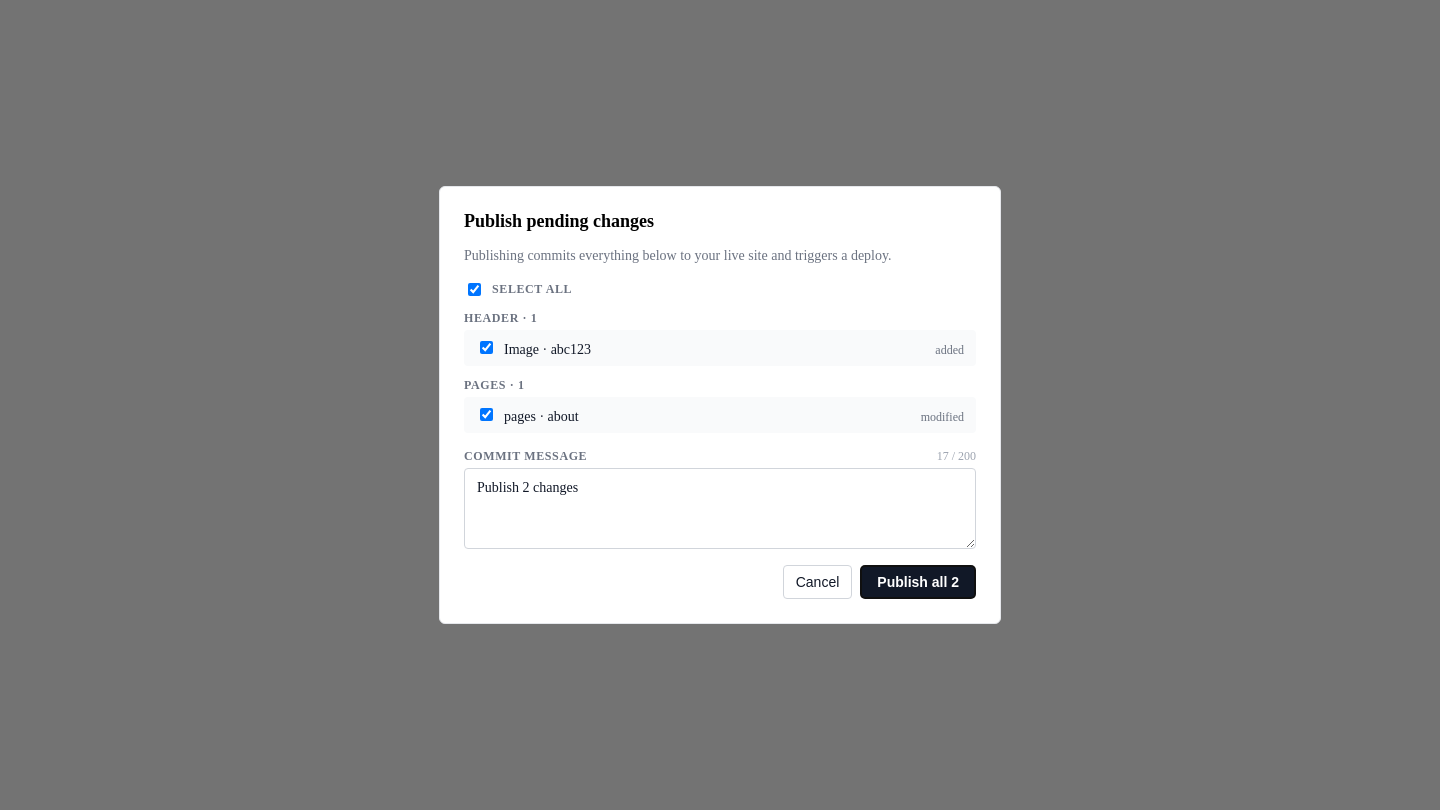
Test case: PublishConfirmModal › shows Reset once the subject drifts from the default, and re-seeds when clicked
This screenshot has width=1440, height=810.
Replace the text in the text box labelled "Commit message" with "custom message" at (720, 508), box left=464, top=468, right=976, bottom=549
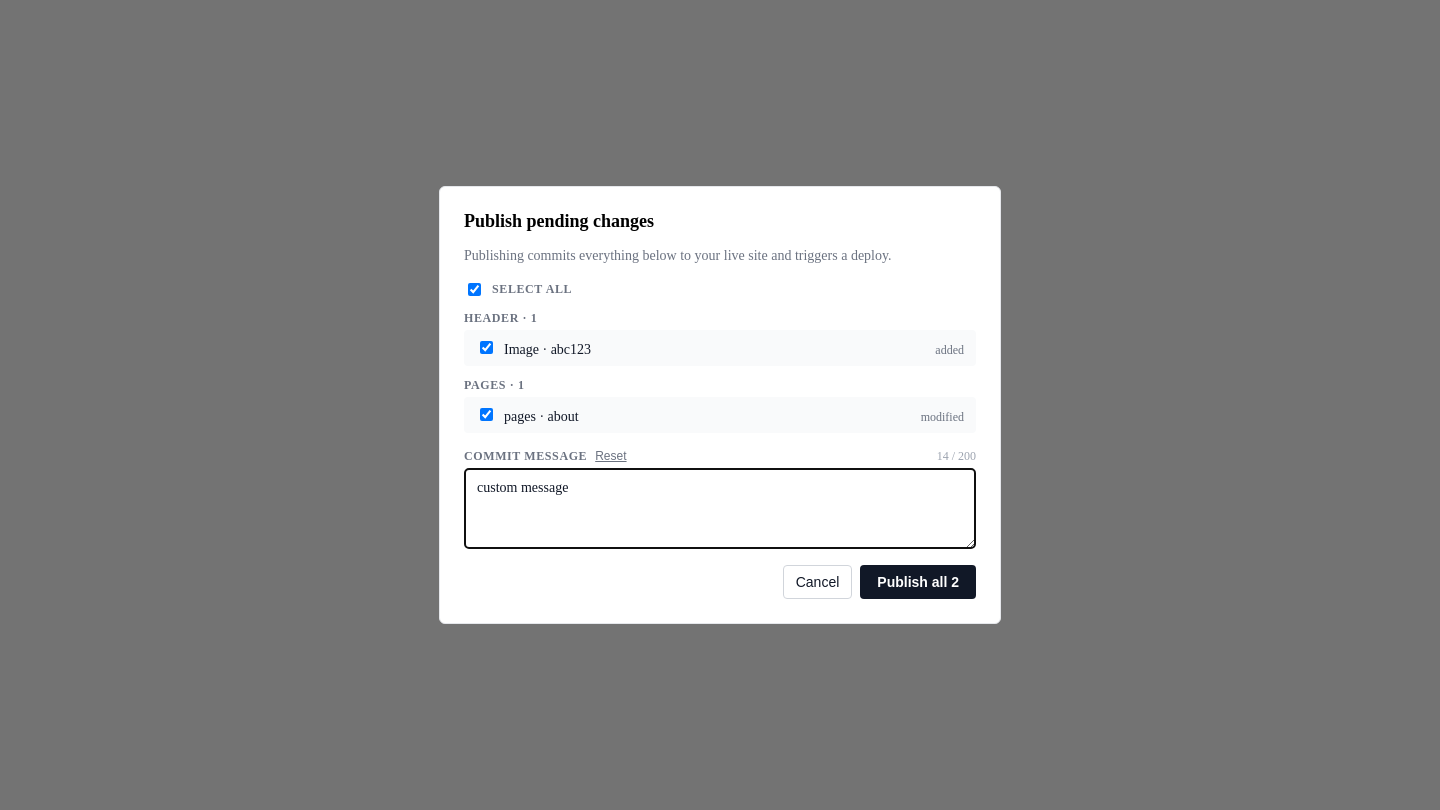
Expected: the button "Reset" is shown
Click the button "Reset" at (611, 456), box left=595, top=449, right=627, bottom=463
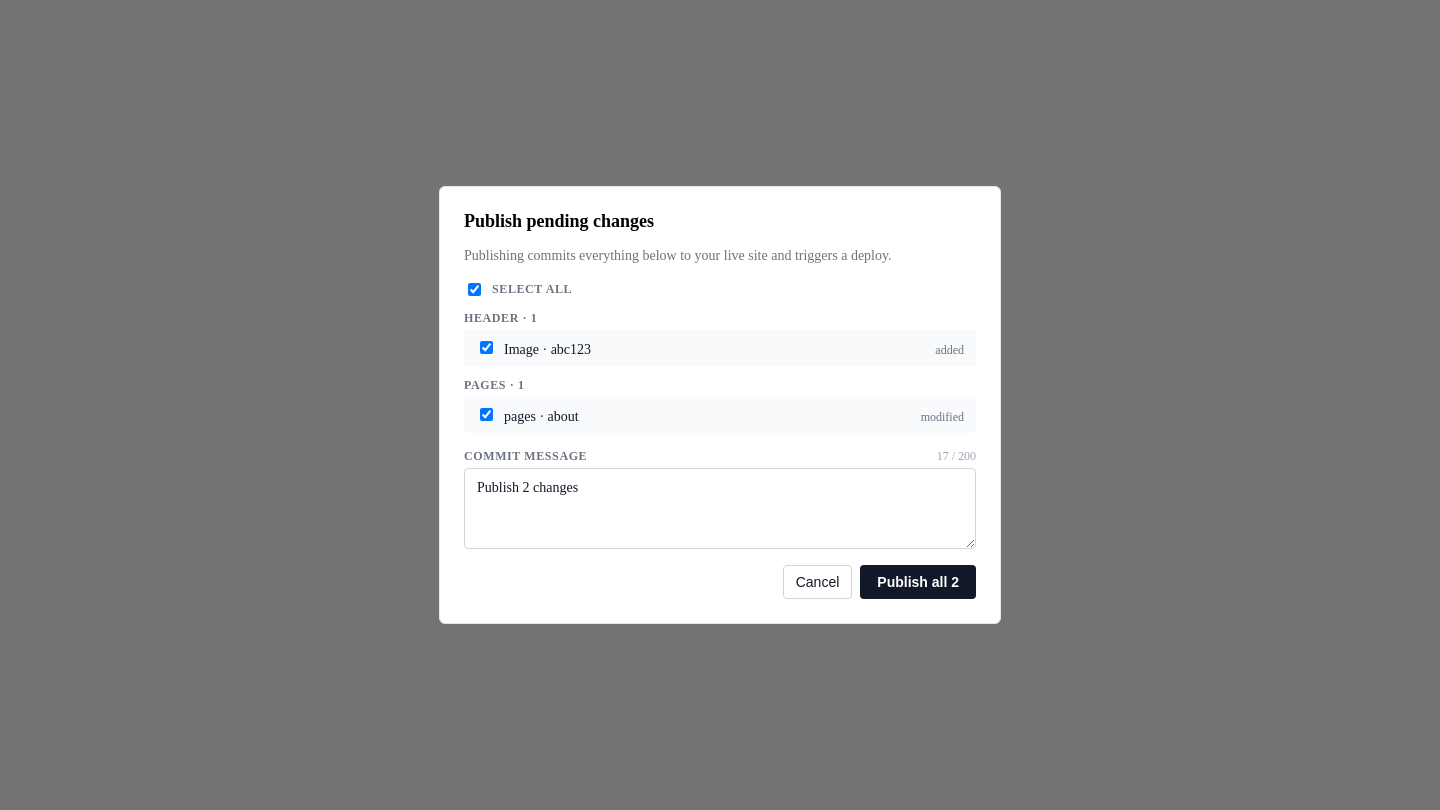
Expected: the text box labelled "Commit message" holds "Publish 2 changes", left=464, top=468, right=976, bottom=549
Expected: the button "Reset" is gone
